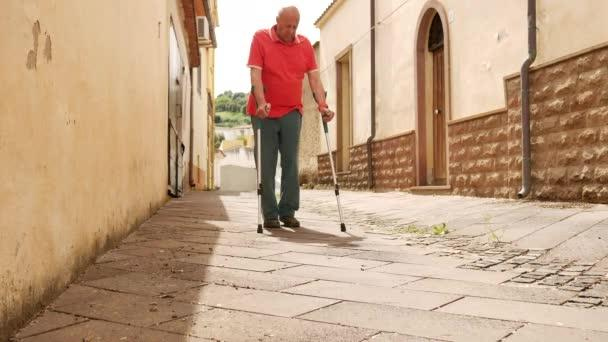crutches: (246, 6, 346, 233)
